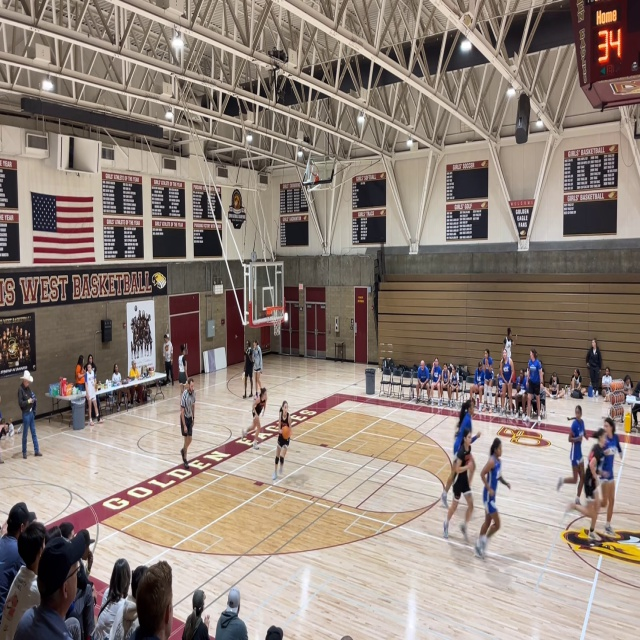Basketball: (281, 426, 291, 439)
